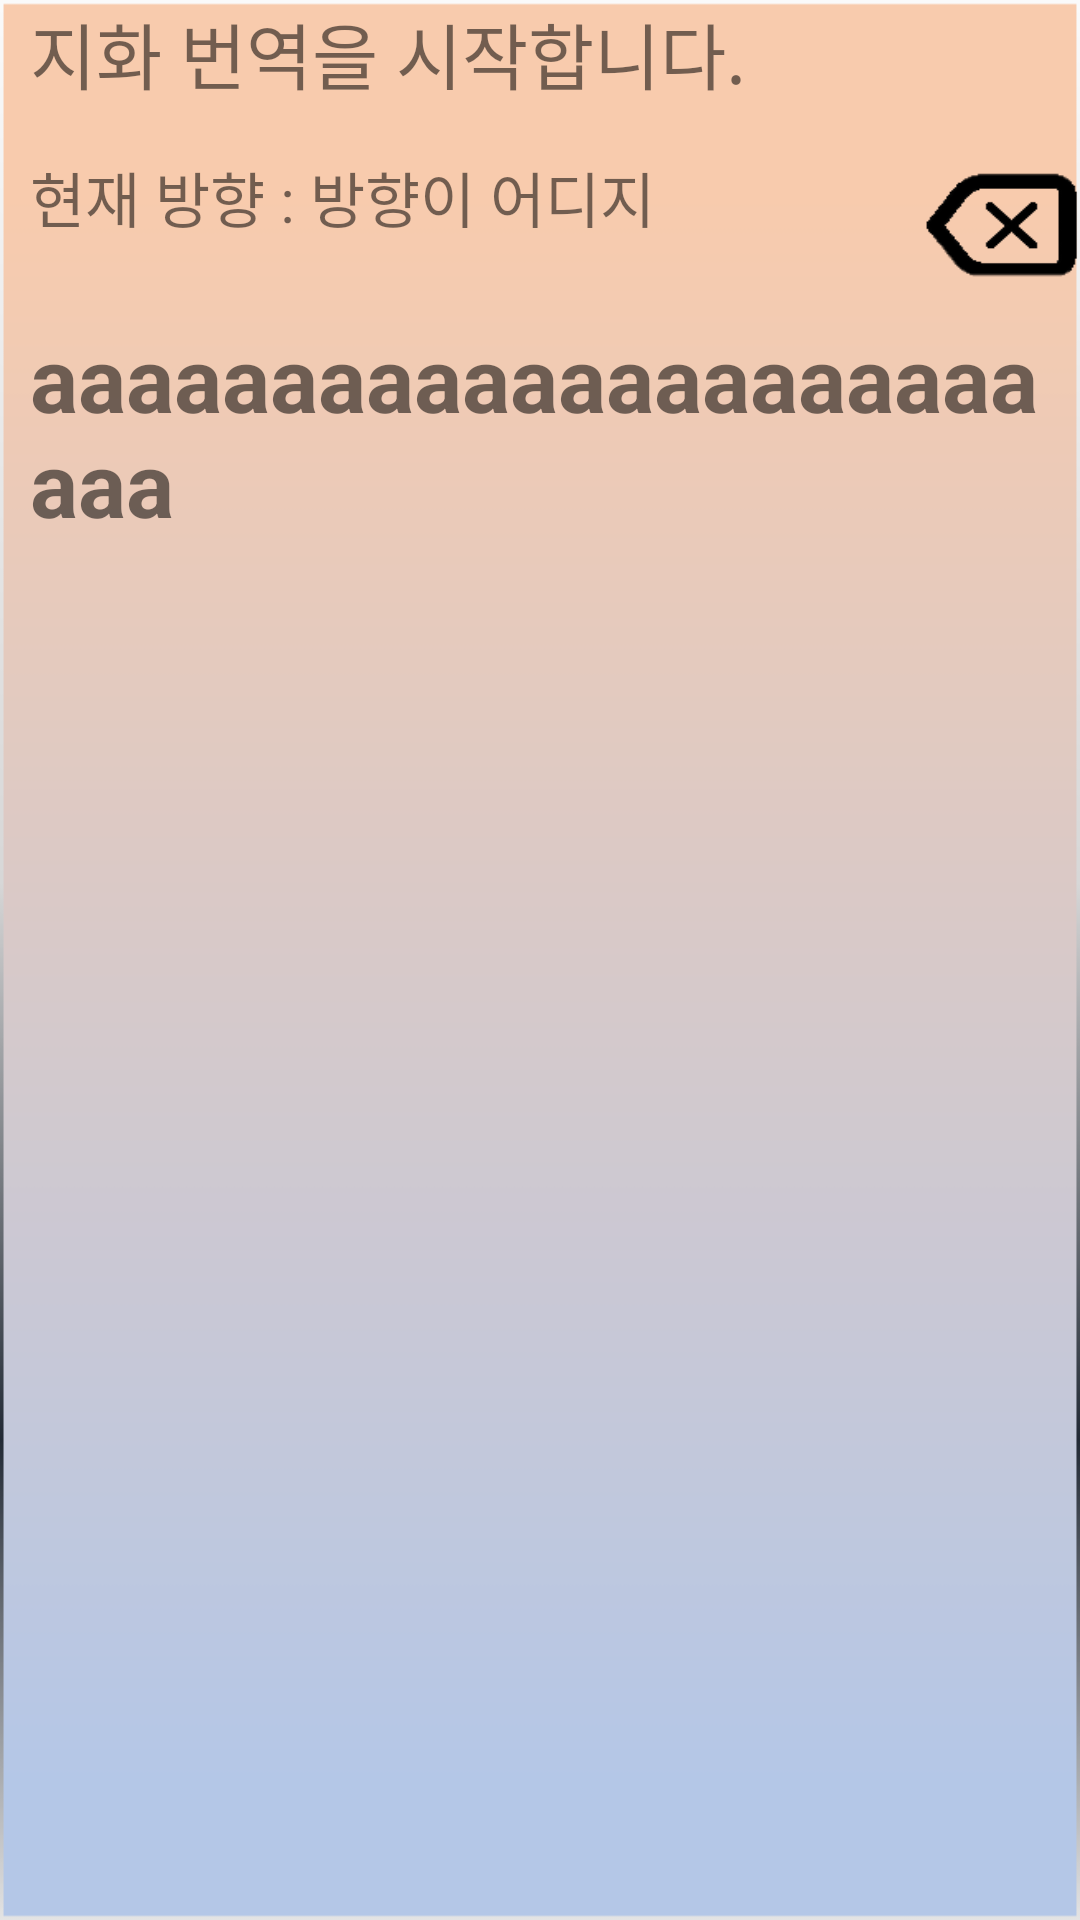

Named icons in this screenshot (1080×1920) and their bounding boxes, BBox(x1, y1, x2, y2):
backspace: BBox(926, 153, 1080, 287)
